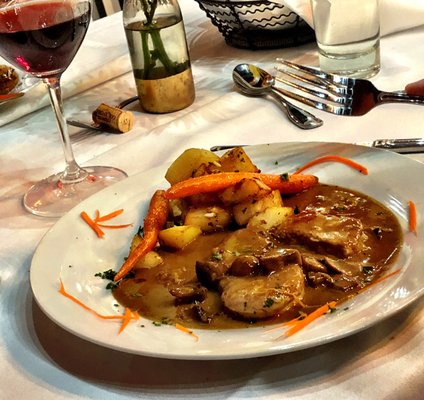burger: (231, 63, 324, 130)
pizza: (310, 2, 382, 79)
salad: (233, 63, 324, 131)
